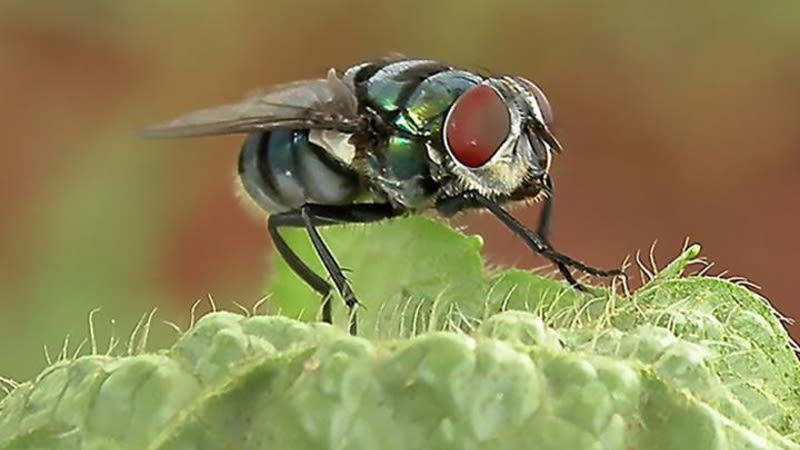house fly: (130, 42, 637, 333)
